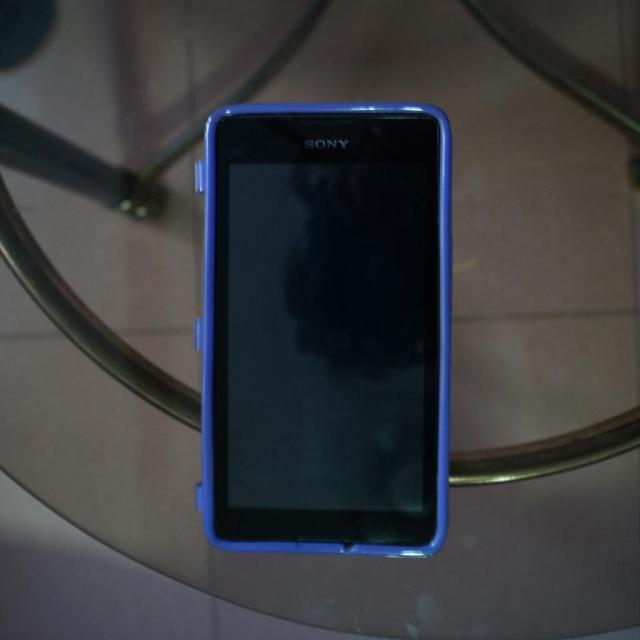Phone: (196, 102, 453, 559)
